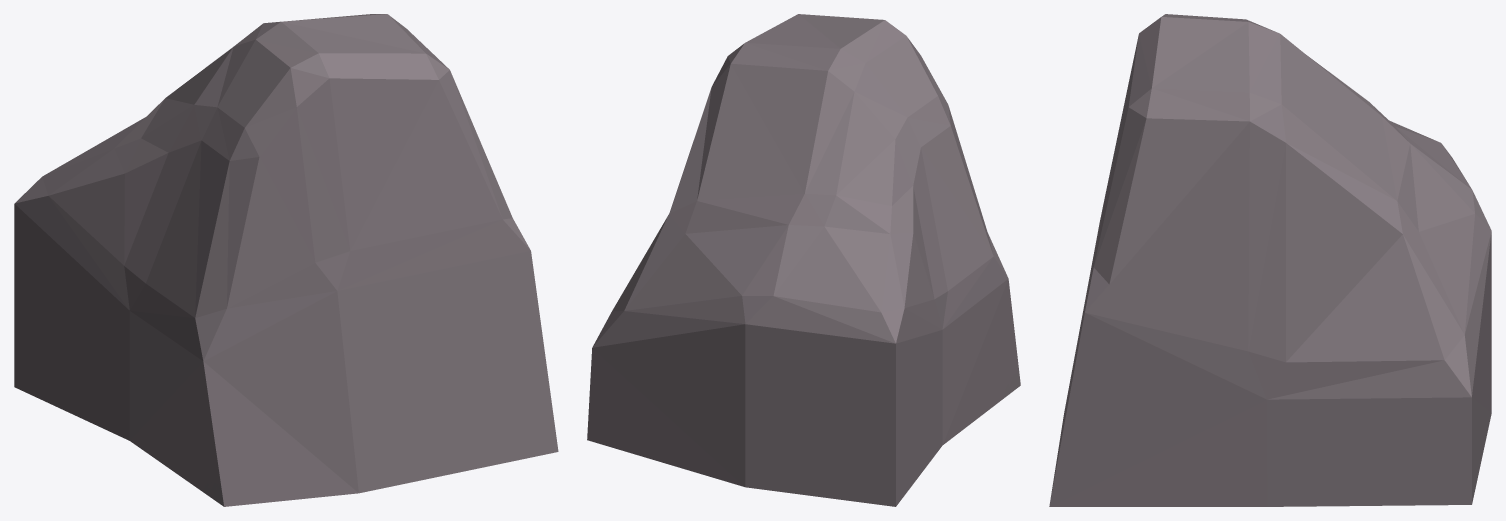
Rendered from Stone-1.obj.
3 renders of one model, left to right at view 1: azimuth 30°, elevation 25°; view 2: azimuth 150°, elevation 25°; view 3: azimuth 270°, elevation 25°, orthographic. The views are drawn at different scales.
Visible parts, largest first — view 1: Stone-1; view 2: Stone-1; view 3: Stone-1.
Part boxes in pixels (x1=…): Stone-1: x1=14, y1=14, x2=558, y2=506; Stone-1: x1=587, y1=14, x2=1020, y2=506; Stone-1: x1=1049, y1=14, x2=1491, y2=506.
Size of the model in its own units: 1.47 by 1.66 by 1.66.
